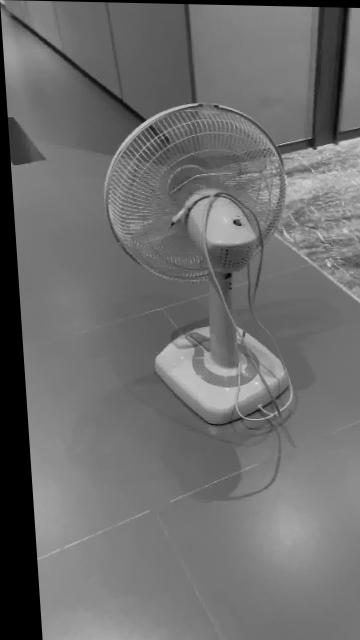Fan: (101, 102, 284, 427)
